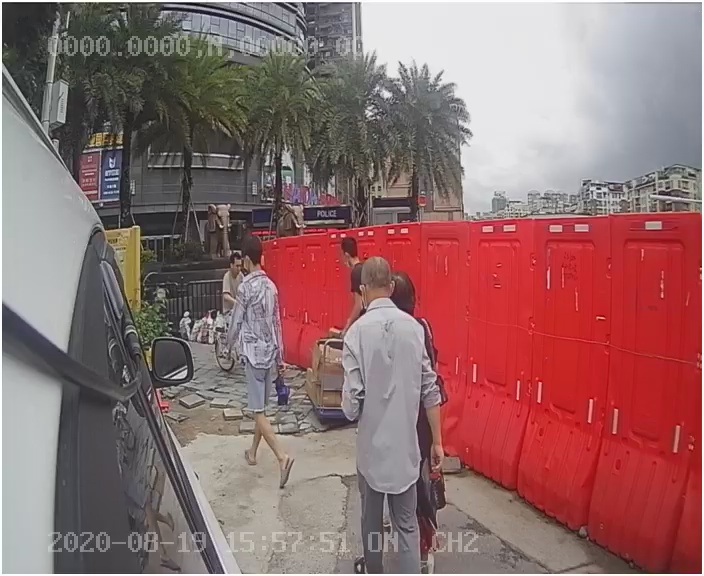person: (339, 255, 463, 529), (218, 242, 314, 498)
